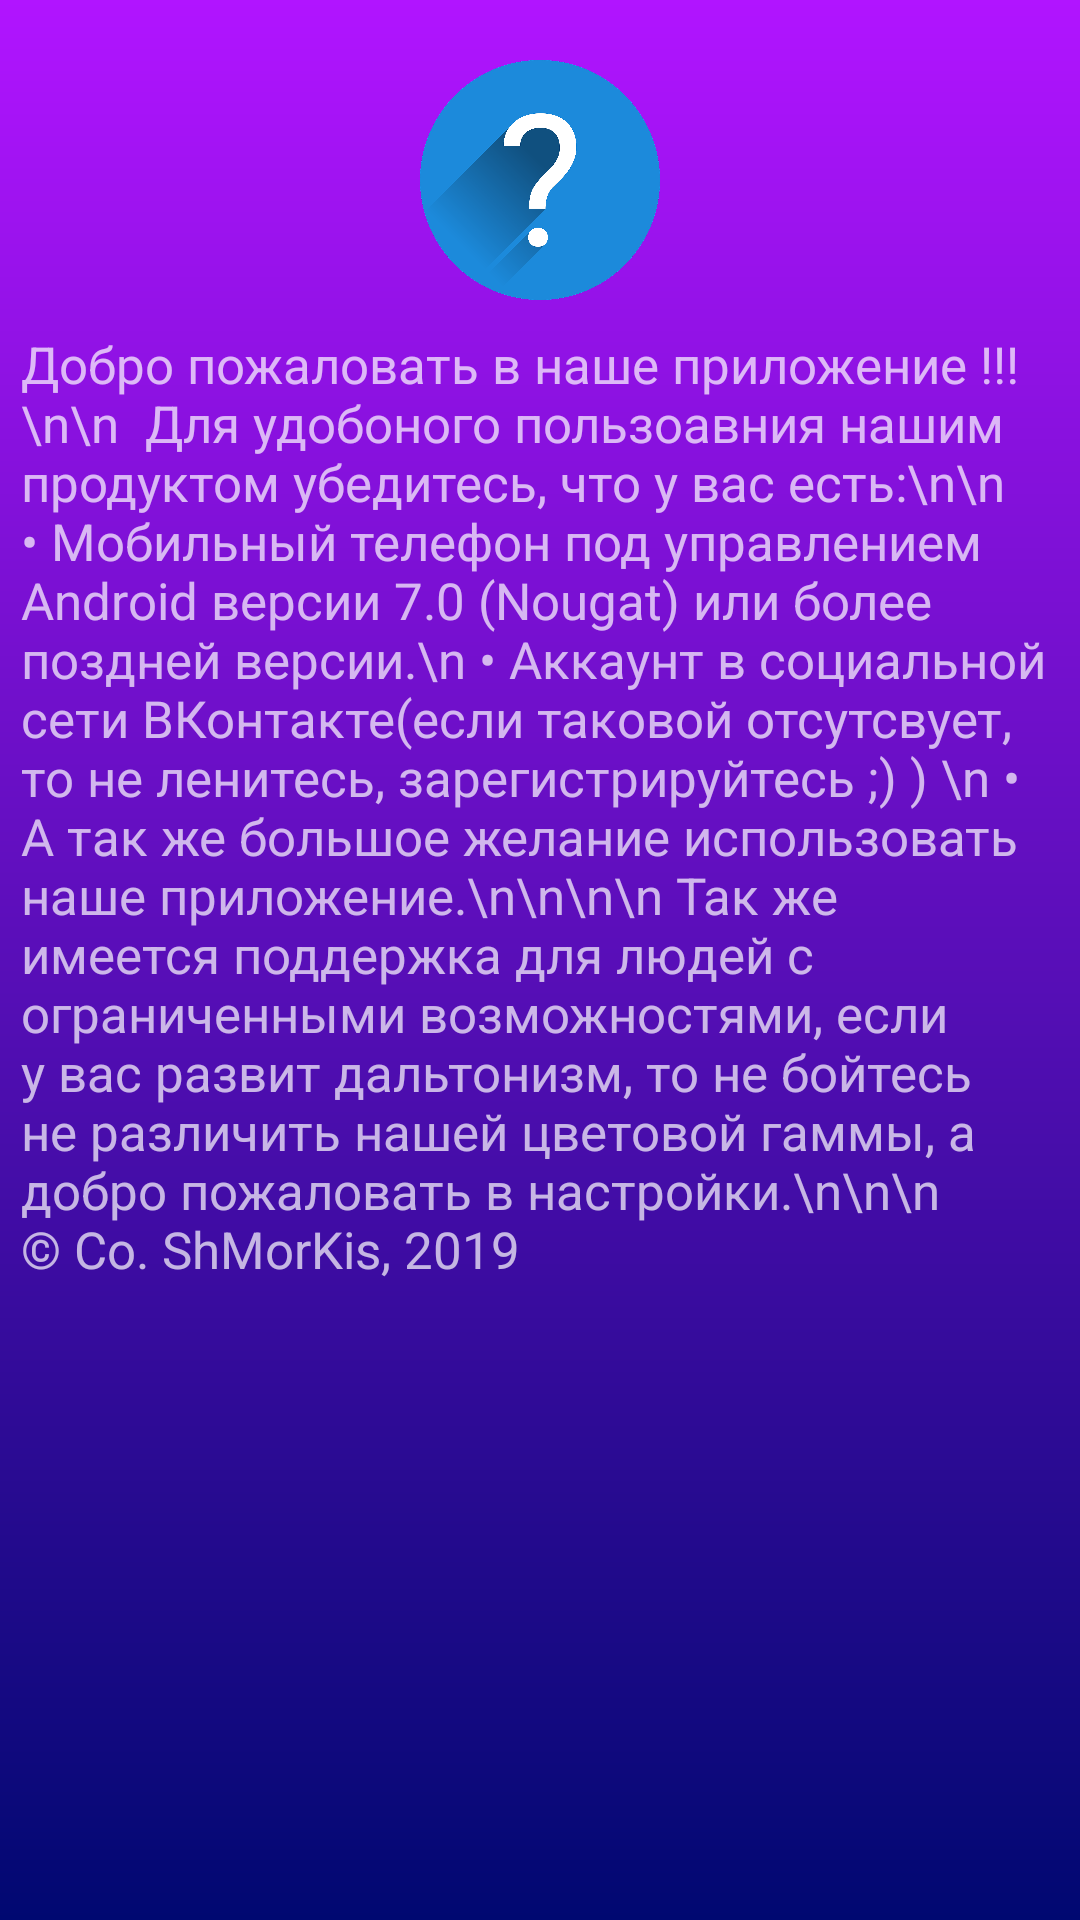

Named icons in this screenshot (1080*1920) and their bounding boxes, Rect(x1, y1, x2, y2):
questionmark: Rect(420, 60, 660, 300)
